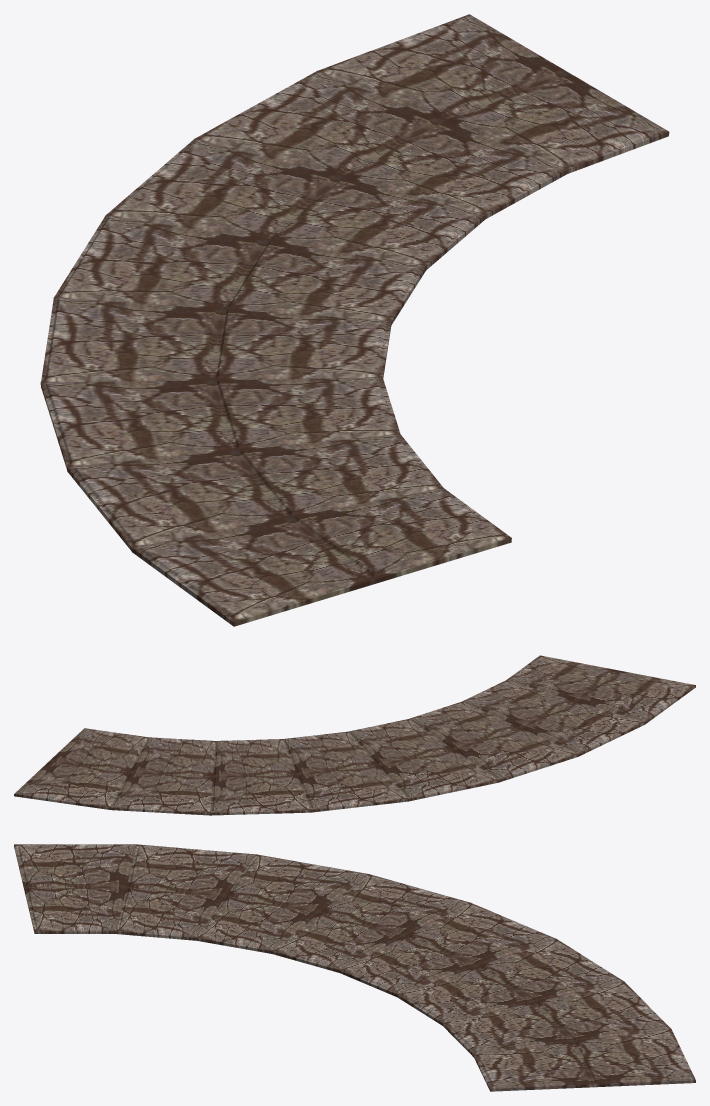
File: walkplane_90_b.FBX
3 renders of one model, top to bottom at view 1: azimuth 30°, elevation 25°; view 2: azimuth 150°, elevation 25°; view 3: azimuth 270°, elevation 25°, orthographic. The views are drawn at different scales.
Parts seen in each view (by area): view 1: walkplane_90_b; view 2: walkplane_90_b; view 3: walkplane_90_b.
Part boxes in pixels (x1,y1,x2,y2): walkplane_90_b: (40, 14, 669, 626); walkplane_90_b: (14, 655, 695, 815); walkplane_90_b: (14, 844, 695, 1091).
Bounding box in the file's own units: 11.19 × 13.19 × 0.0857.
